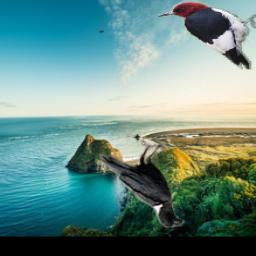Crow: (101, 141, 186, 231)
Woodpecker: (152, 0, 256, 69)
